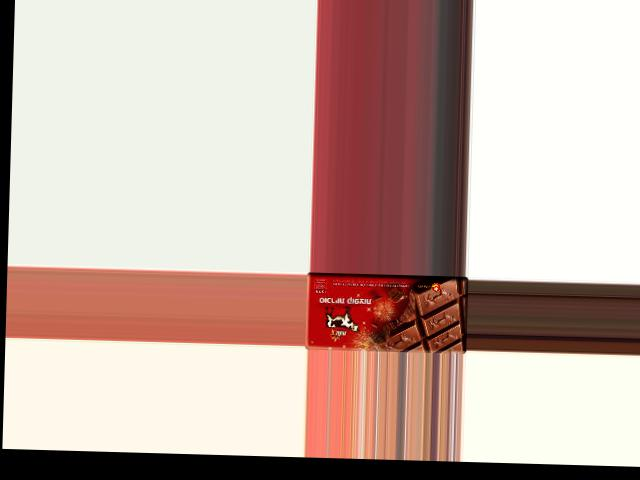chocolate: (304, 272, 467, 353)
